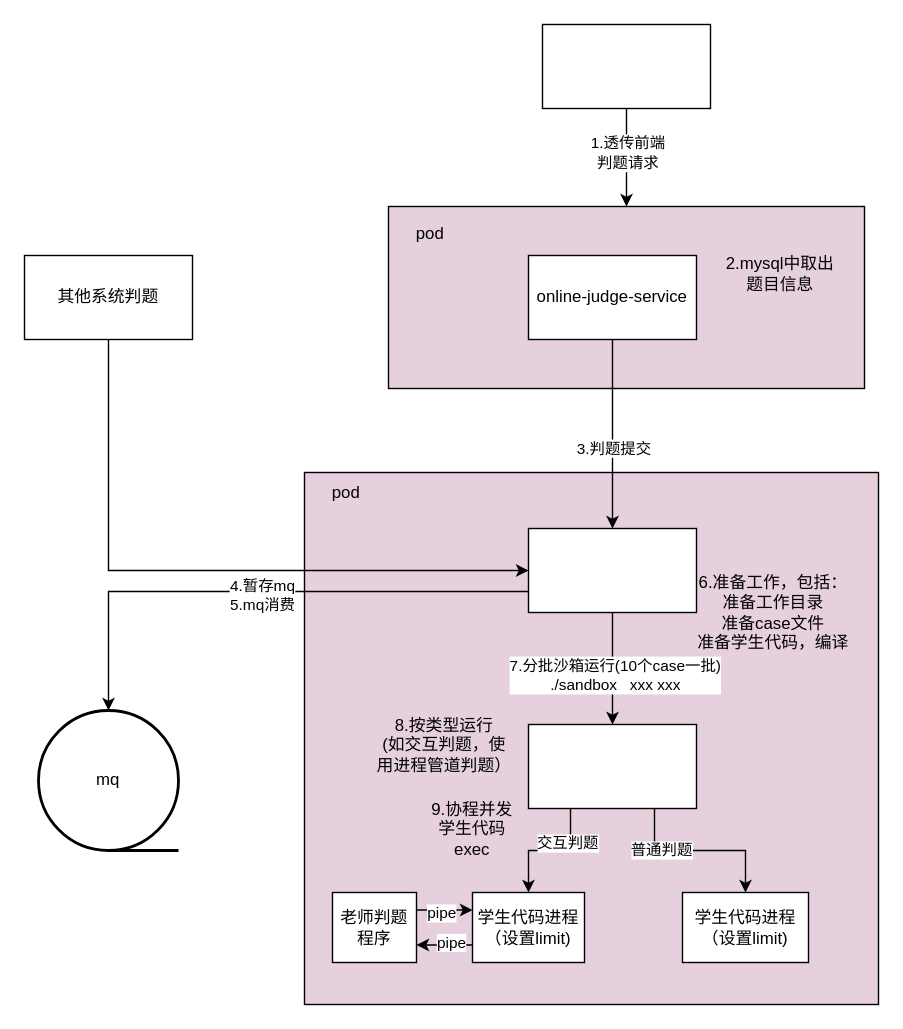
Image size: 903x1029. Some labels were removed from this diagram. Each missing label, with the centre of its shape:
"judge-server" goes at point 611,569.
"oj平台服务" goes at point 625,65.
"sandbox" goes at point 611,765.
